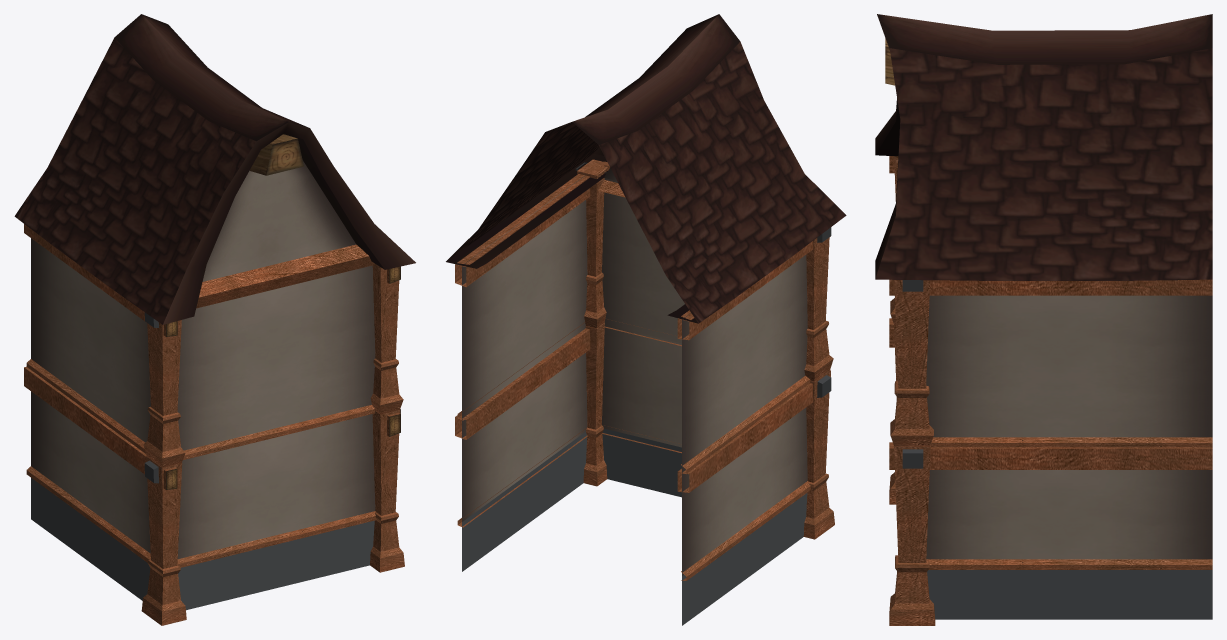
File: fanasty_mod_extention_block02.fbx
3 renders of one model, left to right at view 1: azimuth 30°, elevation 25°; view 2: azimuth 150°, elevation 25°; view 3: azimuth 270°, elevation 25°, orthographic. The views are drawn at different scales.
Parts seen in each view (by area): view 1: extention_block02; view 2: extention_block02; view 3: extention_block02.
Part boxes in pixels (<box>): extention_block02: <box>14,14,415,625</box>; extention_block02: <box>446,14,846,625</box>; extention_block02: <box>875,14,1212,625</box>.
Size of the model in its own units: 6.23 by 11.22 by 6.3.
